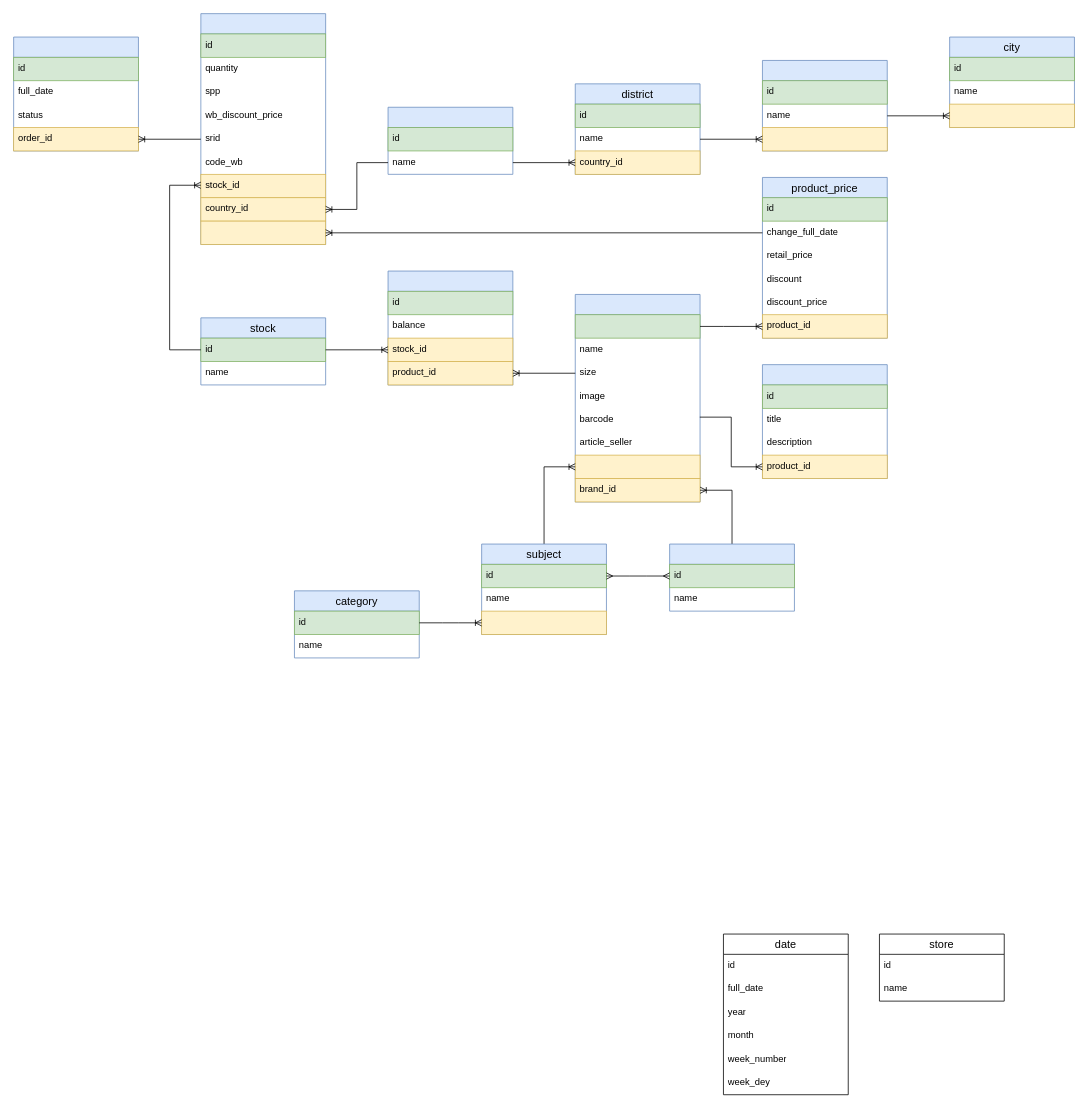
The diagram is 1088 pixels wide and 1111 high, and some of its shapes have lost their labels. Here are the shapes that lost their labels. From the top down, the box of each, then its label:
(13, 36, 138, 151): order_status
(762, 60, 887, 151): region
(200, 13, 326, 245): order
(949, 103, 1074, 128): region_id
(387, 106, 513, 174): country
(762, 127, 887, 151): district_id
(200, 220, 326, 245): product_price_id
(387, 270, 513, 385): stock_product
(574, 314, 700, 338): sku
(574, 294, 700, 502): product
(762, 364, 887, 479): product_info
(574, 454, 700, 479): subject_id
(669, 543, 794, 611): brand
(481, 610, 606, 635): category_id
